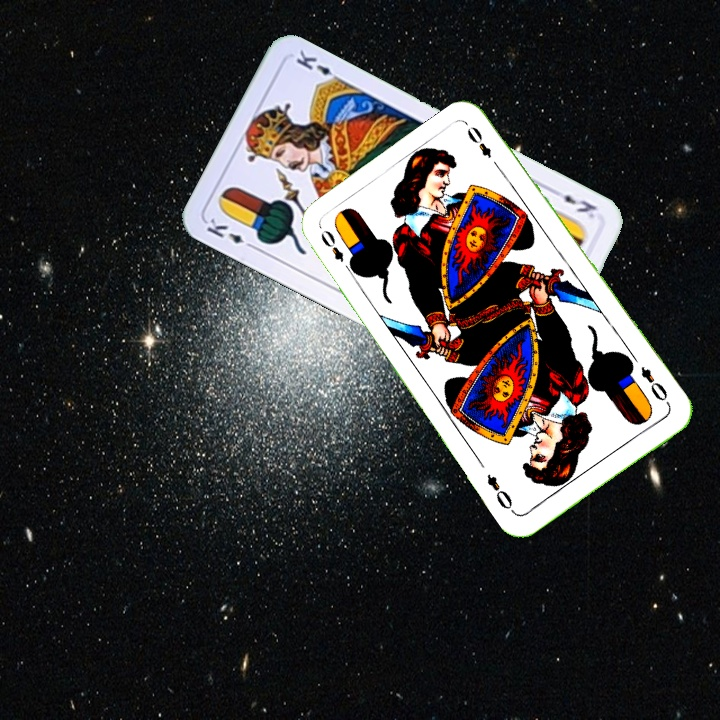EK: (202, 214, 259, 252), (547, 185, 600, 221)
EO: (316, 225, 356, 276), (636, 362, 670, 404)
